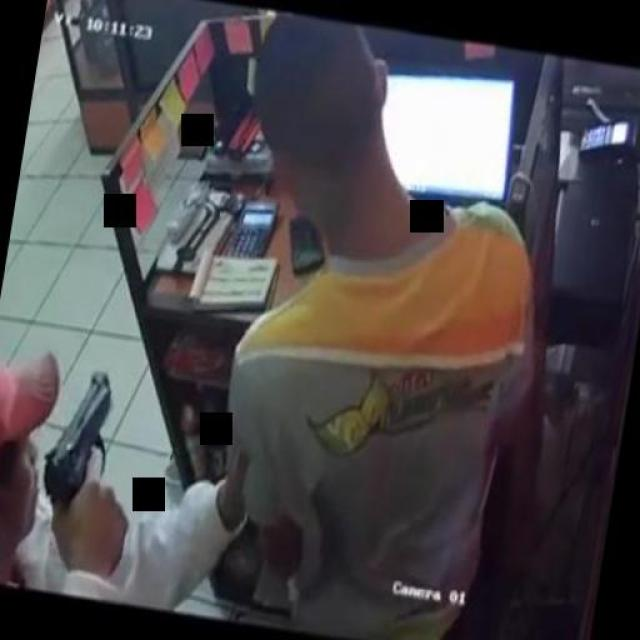gun: (26, 359, 160, 571)
